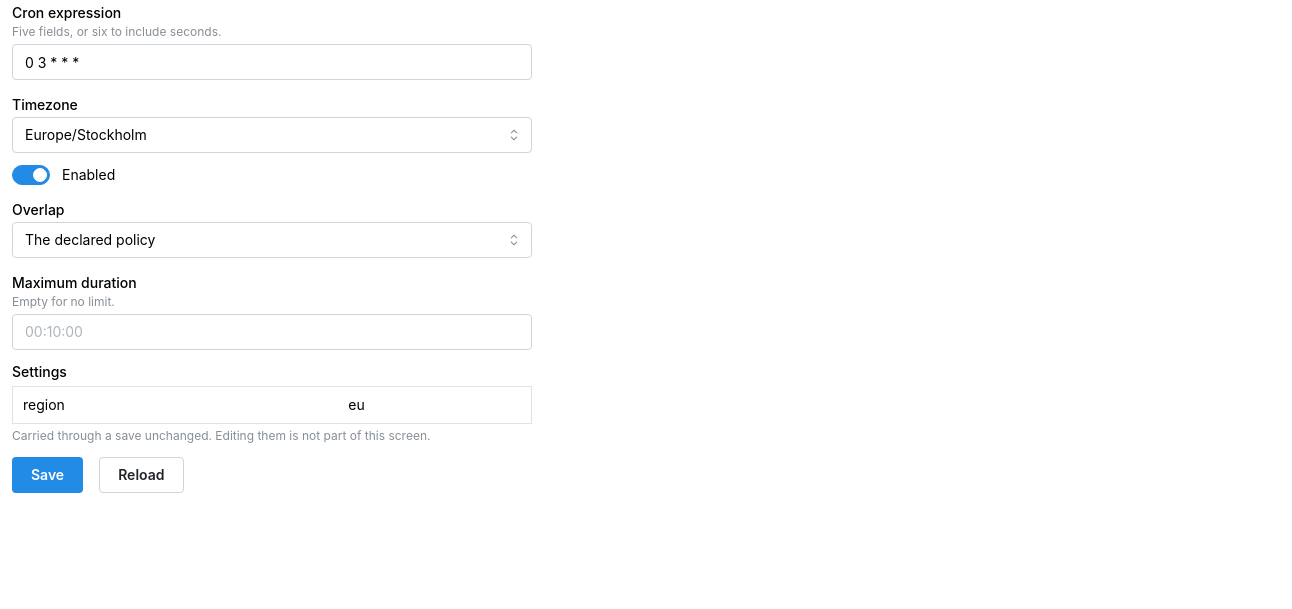
Scenario: ScheduleForm › shows the server's prose for an invalid cron expression
Replace the text in the field labelled "Cron expression" with "every tuesday" at (272, 62), box [12, 44, 532, 80]
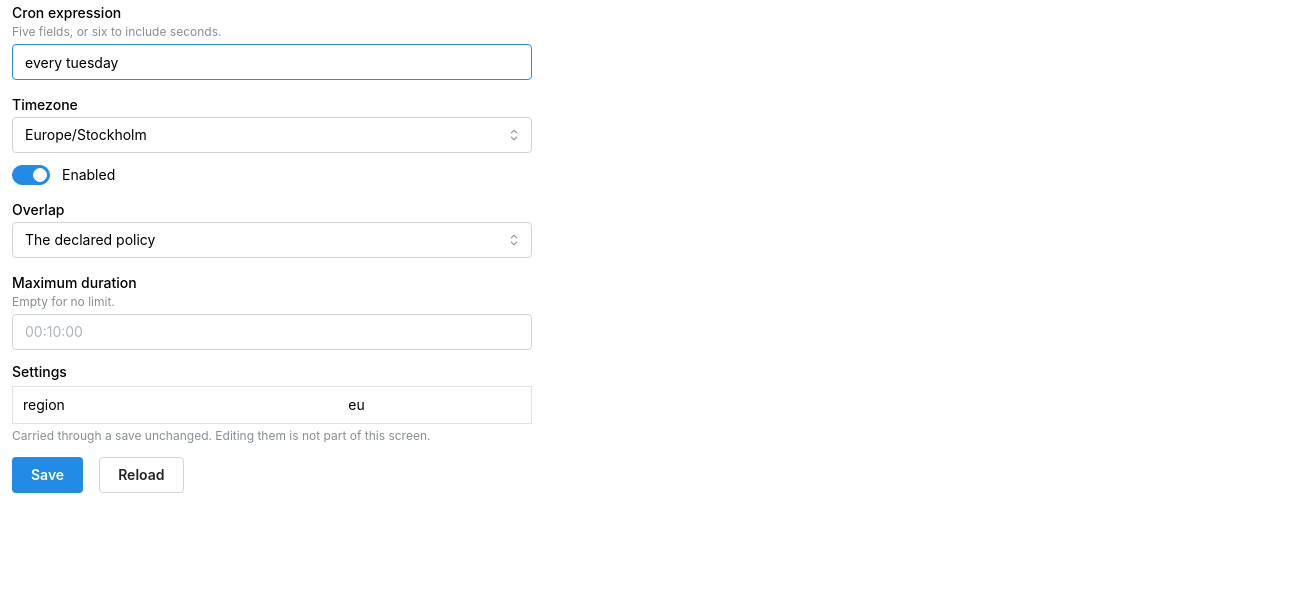
Click the button "Save" at (48, 475), box [12, 457, 83, 493]
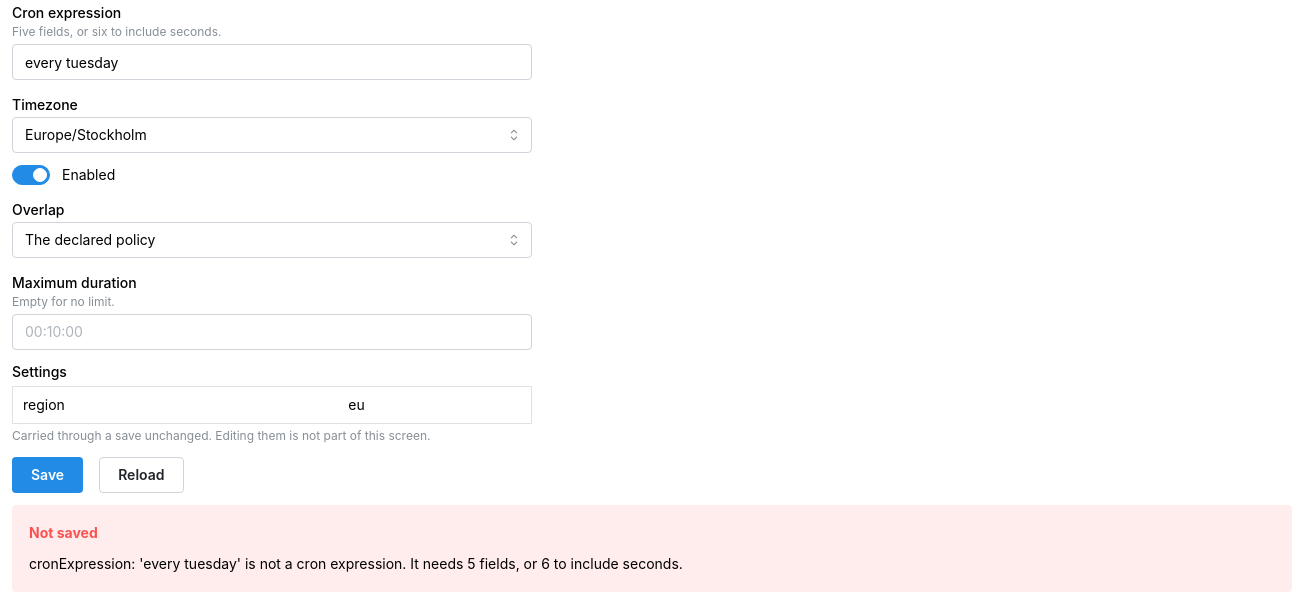
Result: the text "cronExpression: 'every tuesday' is not a cron expression. It needs 5 fields, or 6 to include seconds." is shown at [29, 555, 683, 572]
